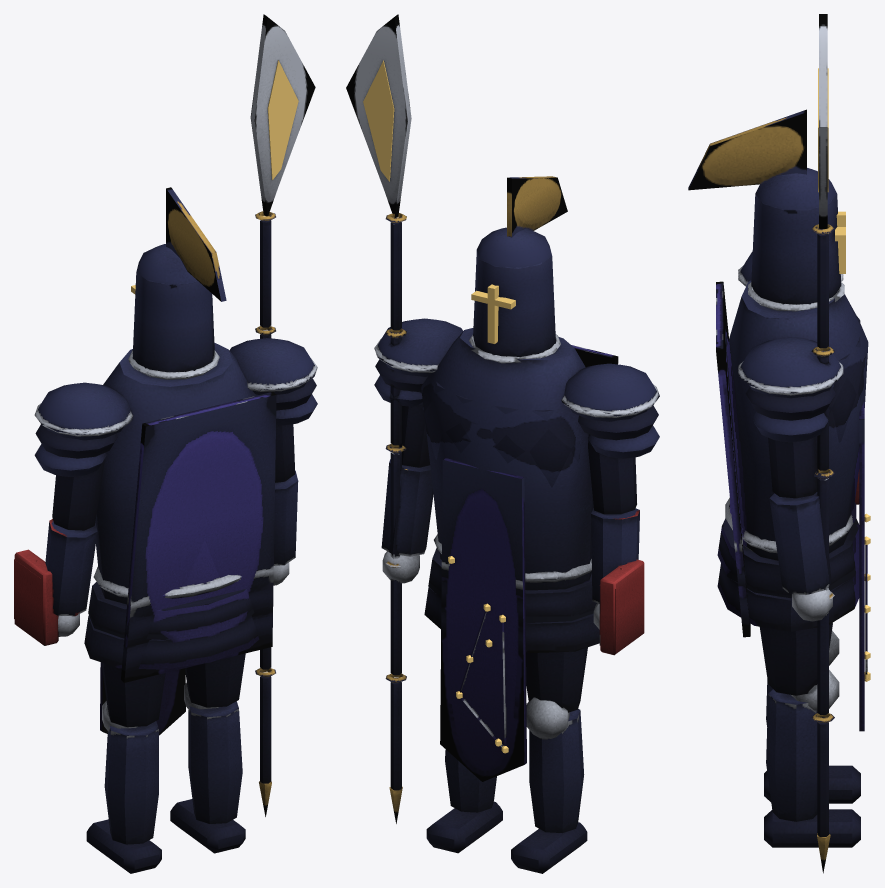
The model's file is elite_archive_executor.fbx.
3 views of the same model, side by side, from view 1: azimuth 30°, elevation 25°; view 2: azimuth 150°, elevation 25°; view 3: azimuth 270°, elevation 25° (orthographic). The views are drawn at different scales.
Visible parts, largest first — view 1: Body, Head, ForearmR, ArmL, KneeL, KneeR, ForearmL, ArmR, LegL, LegR, ForearmR_Glow_Star; view 2: Body, ForearmR, Head, ArmL, KneeL, ForearmL, ArmR, KneeR, LegL, ForearmR_Glow_Star, Head_Glow_Star; view 3: Body, Head, ForearmR, ArmR, KneeR, LegR, KneeL, Head_Glow_Star.
Part boxes in pixels (left/top/right/bottom): Body: left=84, top=342, right=276, bottom=735; Head: left=128, top=187, right=226, bottom=379; ForearmR: left=250, top=14, right=315, bottom=816; ArmL: left=34, top=382, right=133, bottom=530; KneeL: left=86, top=701, right=161, bottom=873; KneeR: left=170, top=682, right=245, bottom=853; ForearmL: left=14, top=519, right=97, bottom=645; ArmR: left=229, top=338, right=317, bottom=482; LegL: left=101, top=662, right=165, bottom=727; LegR: left=185, top=653, right=245, bottom=707; ForearmR_Glow_Star: left=267, top=60, right=298, bottom=179; Body: left=421, top=328, right=618, bottom=781; ForearmR: left=346, top=14, right=433, bottom=823; Head: left=469, top=176, right=567, bottom=363; ArmL: left=561, top=363, right=659, bottom=514; KneeL: left=511, top=697, right=587, bottom=873; ForearmL: left=591, top=508, right=644, bottom=655; ArmR: left=374, top=318, right=462, bottom=467; KneeR: left=426, top=749, right=502, bottom=853; LegL: left=526, top=647, right=587, bottom=712; ForearmR_Glow_Star: left=363, top=60, right=394, bottom=181; Head_Glow_Star: left=471, top=284, right=515, bottom=343; Body: left=716, top=280, right=868, bottom=731; Head: left=688, top=109, right=844, bottom=311; ForearmR: left=769, top=14, right=834, bottom=873; ArmR: left=738, top=337, right=843, bottom=498; KneeR: left=764, top=670, right=860, bottom=847; LegR: left=759, top=623, right=832, bottom=695; KneeL: left=764, top=630, right=860, bottom=803; Head_Glow_Star: left=835, top=211, right=845, bottom=273.
Size of the model in its own units: 448 by 1188 by 228.
Materials: 2 (1 with a texture image).
